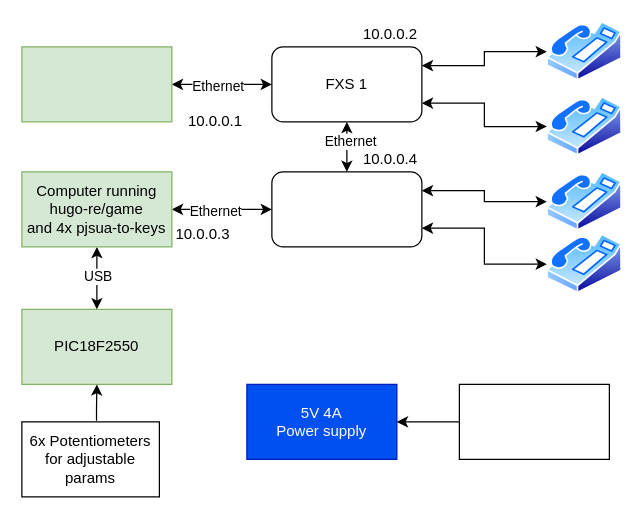
Some shapes in this 644 by 519 pixel diagram are drawn without their labels. Here are the shapes that lost their labels. From the top down, the box of each, then its label:
(21, 46, 172, 122): Raspberry PI 3B
(271, 171, 422, 247): FXS 2
(458, 383, 609, 459): Fuse + 220V IEC connector
